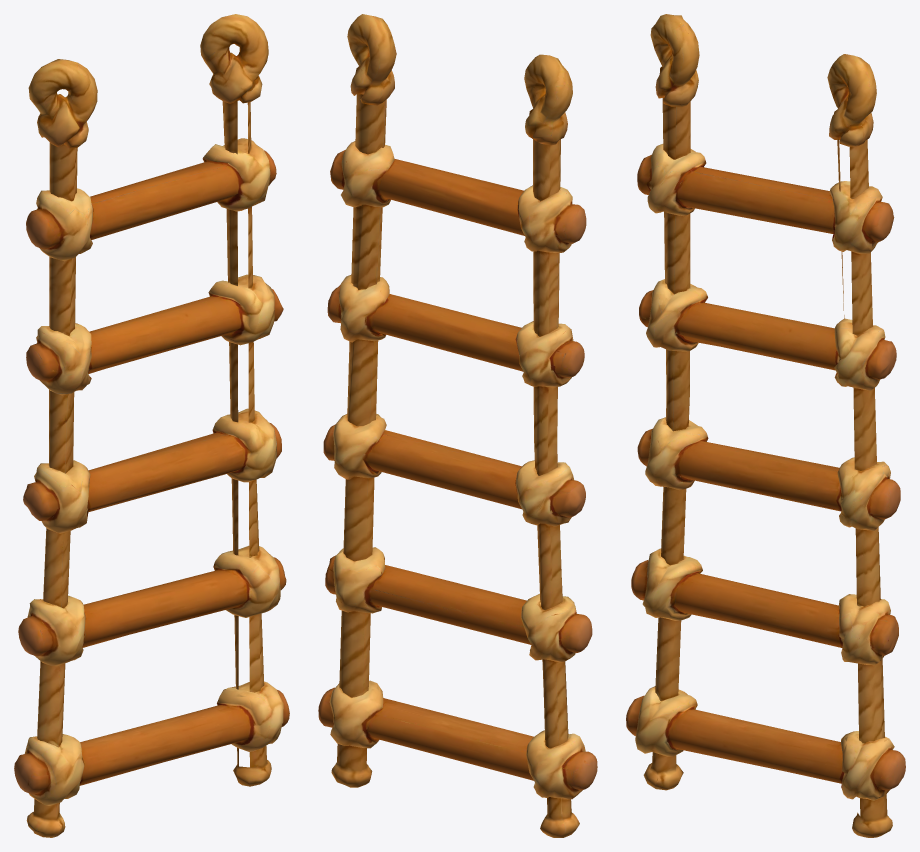
Rendered from rope_ladder.glb.
3 renders of one model, left to right at view 1: azimuth 30°, elevation 25°; view 2: azimuth 150°, elevation 25°; view 3: azimuth 330°, elevation 25°, orthographic.
Size of what is drawn, in the model's own units: 0.3597 by 1 by 0.1016.
Materials: 1 (1 with a texture image).
